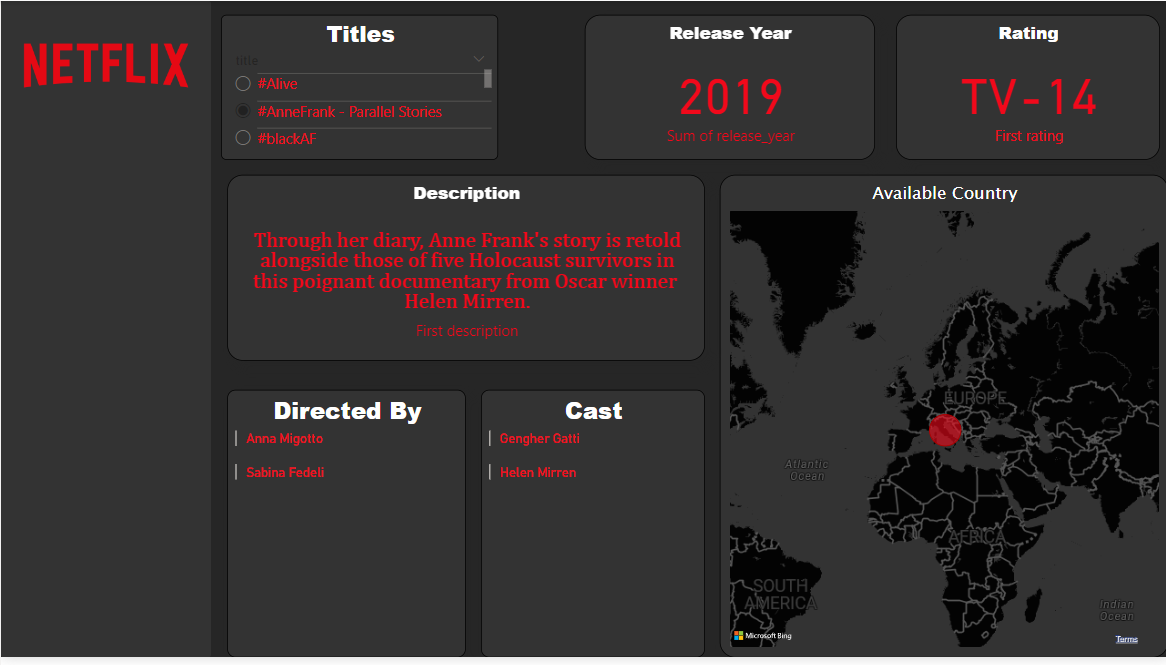

What the dashboard file says about the page in this screenshot:
{"tool":"powerbi","page":{"name":"Page 1","canvas":[1280,720],"ordinal":0},"visuals":[{"type":"shape","box":[0,0,230.3,719.8],"z":0},{"type":"card","title":"Rating","fields":{"Values":["Min(netflix_data netflix_titles.rating)"]},"box":[981.7,15.1,289.3,159],"z":2000},{"type":"map","title":"Available Country","fields":{"Category":["netflix_data countries_released.country"],"Size":["CountNonNull(netflix_data countries_released.show_id)"]},"box":[788.4,190.6,492.2,529.2],"z":3000},{"type":"image","box":[0,0,230.3,134.4],"z":4000},{"type":"card","title":"Release Year","fields":{"Values":["Sum(netflix_data netflix_titles.release_year)"]},"box":[640.3,15.1,318.1,159],"z":5000},{"type":"slicer","title":"Titles","fields":{"Values":["netflix_data netflix_titles.title"]},"box":[241.3,15.1,304.4,159],"z":6000},{"type":"multiRowCard","title":"Cast","fields":{"Values":["netflix_data netflix_cast.cast"]},"box":[526.5,426.4,245.4,293.4],"z":6001},{"type":"multiRowCard","title":"Directed By","fields":{"Values":["netflix_data netflix_directors.director"]},"box":[248.2,426.4,261.9,293.4],"z":6002},{"type":"card","title":"Description","fields":{"Values":["Min(netflix_data description.description)"]},"box":[248.2,190.6,523.7,204.3],"z":6003}]}

Visuals, with their boxes in screenshot pixels (x1, y1, x2, y2), scaled from the page's 1280x720 canvas onto the 1166x665 screenshot:
shape: bbox(0, 0, 210, 664)
"Rating" card: bbox(894, 14, 1158, 161)
"Available Country" map: bbox(718, 176, 1165, 664)
image: bbox(0, 0, 210, 124)
"Release Year" card: bbox(583, 14, 873, 161)
"Titles" slicer: bbox(220, 14, 497, 161)
"Cast" multiRowCard: bbox(480, 394, 703, 664)
"Directed By" multiRowCard: bbox(226, 394, 465, 664)
"Description" card: bbox(226, 176, 703, 365)
